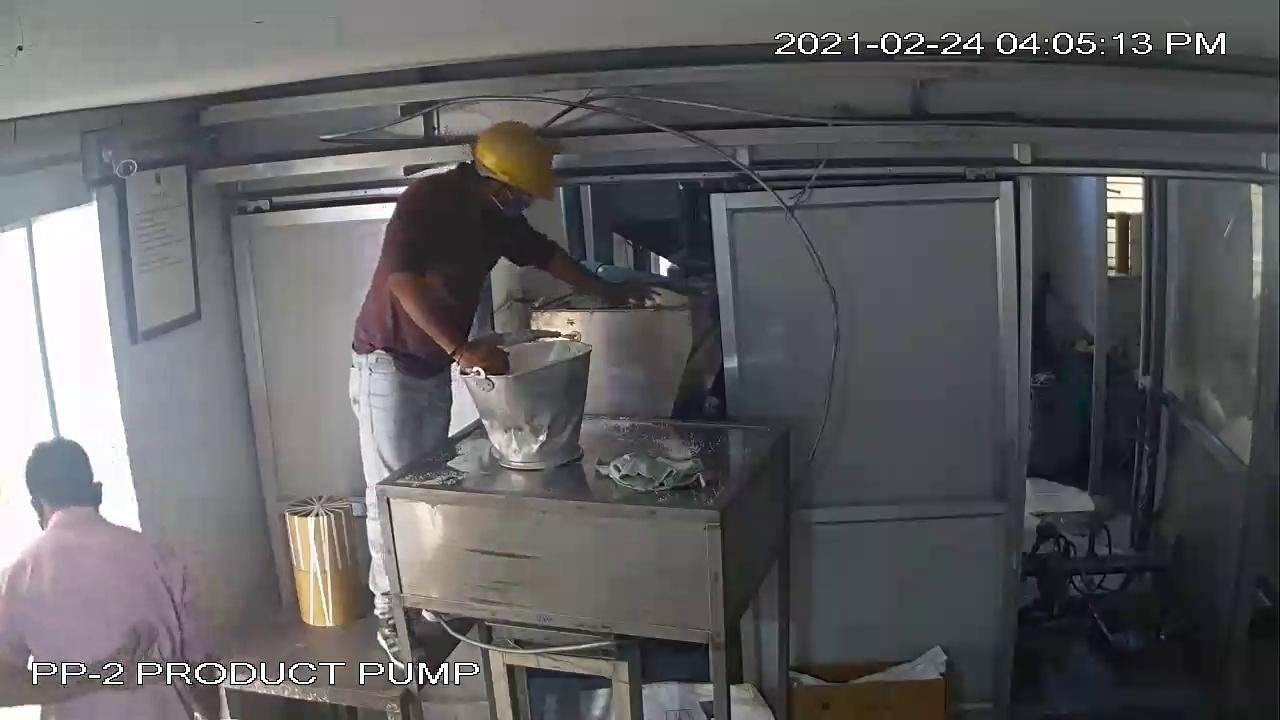helmet: (465, 109, 570, 218)
